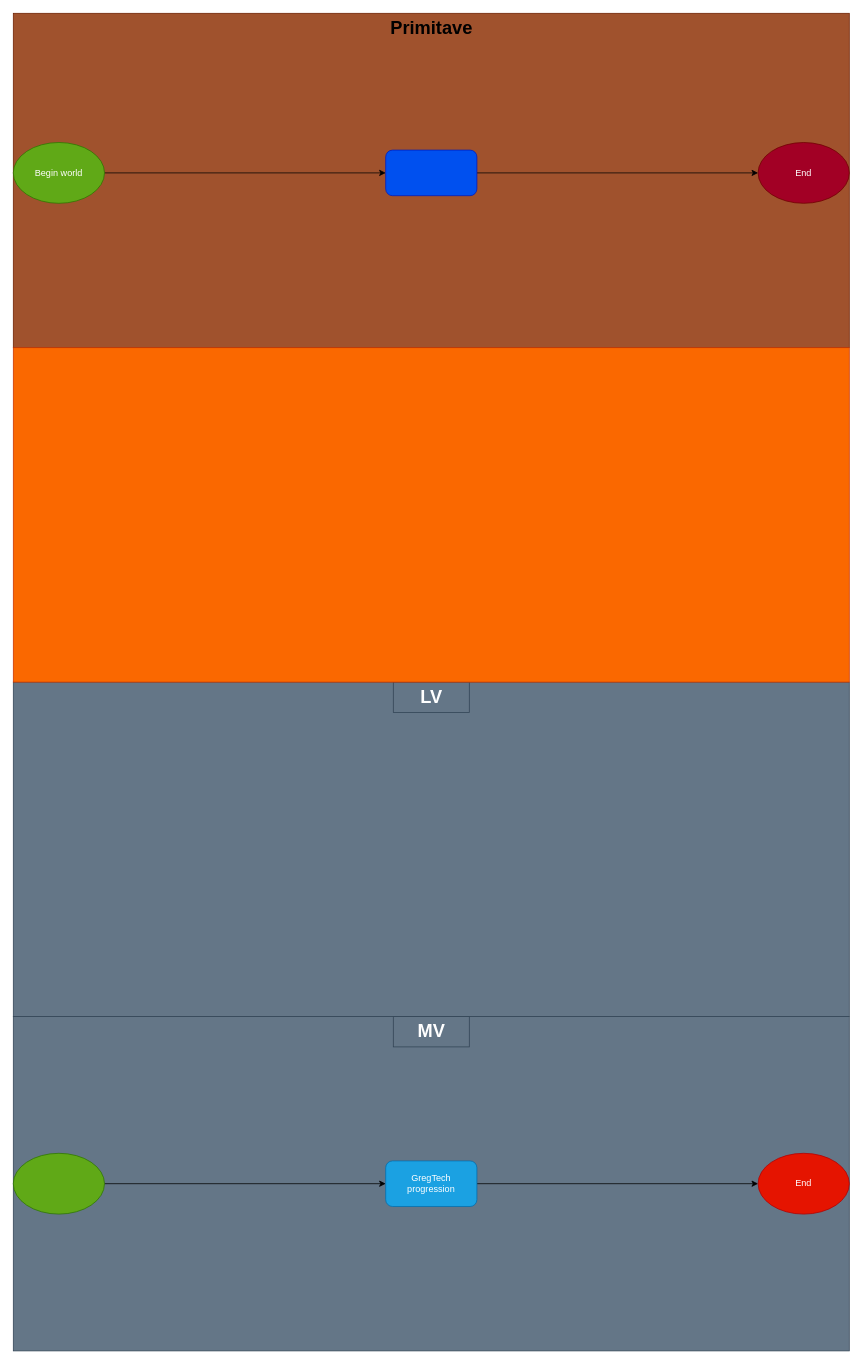
Image size: 863x1364. Some labels were removed from this diagram. Each missing label, with the box of its shape:
GregTech: (385, 149, 477, 196)
Start: (13, 1153, 104, 1214)
Steam: (13, 347, 849, 682)
